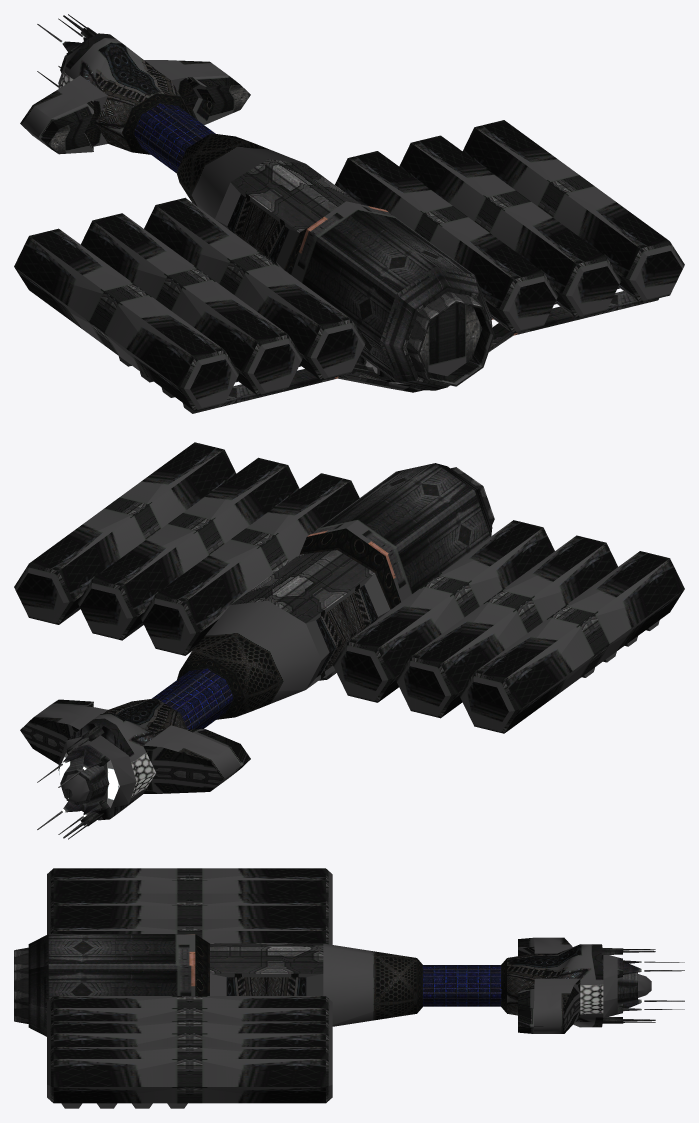
File: ts2_modh.fbx
3 renders of one model, top to bottom at view 1: azimuth 30°, elevation 25°; view 2: azimuth 150°, elevation 25°; view 3: azimuth 270°, elevation 25°, orthographic. The views are drawn at different scales.
Visible parts, largest first — view 1: ts2_modh; view 2: ts2_modh; view 3: ts2_modh.
Part boxes in pixels (x1,y1,x2,y2): ts2_modh: (14,14,684,413); ts2_modh: (14,442,684,839); ts2_modh: (14,868,684,1108).
Size of the model in its own units: 302 by 74.55 by 423.
1 material, 1 textured.
